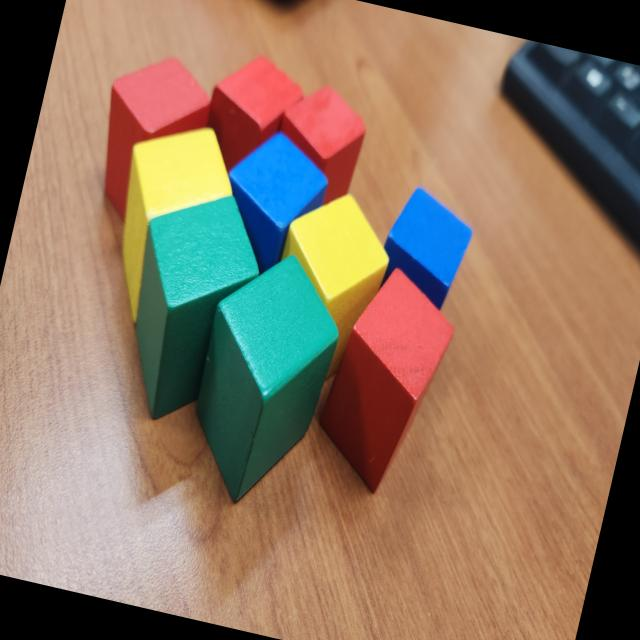blue: (206, 120, 339, 288), (370, 181, 480, 315)
green: (172, 239, 355, 516), (105, 179, 276, 436)
red: (302, 256, 468, 504), (82, 42, 225, 235), (194, 46, 310, 183), (264, 77, 375, 214)
yellow: (94, 110, 246, 340), (264, 182, 400, 362)
